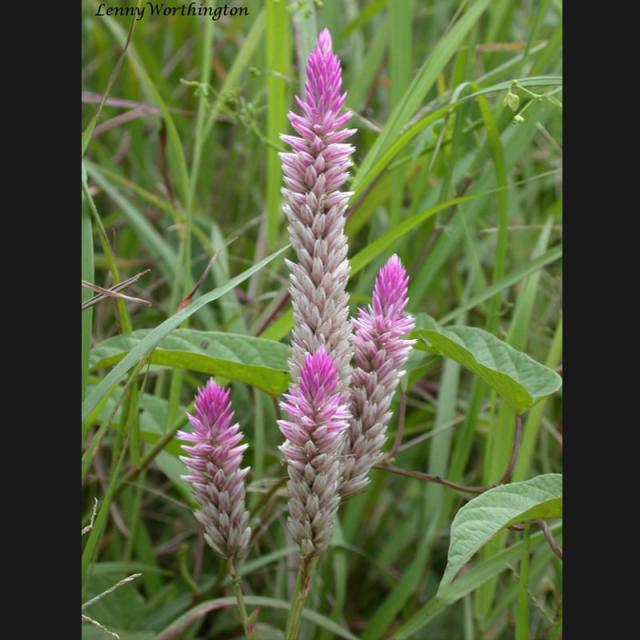Celosia-Argentea: (174, 25, 420, 582)
